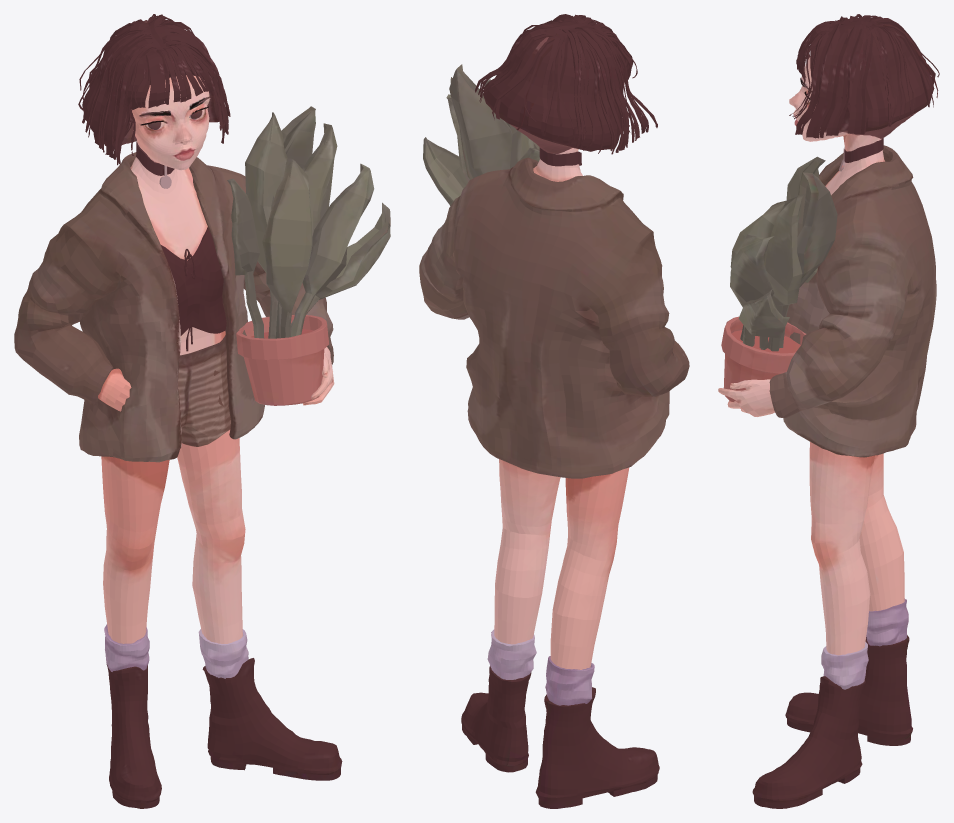
File: matilda-transformed.glb
The picture shows the model from 3 angles, left to right: view 1: azimuth 30°, elevation 25°; view 2: azimuth 150°, elevation 25°; view 3: azimuth 270°, elevation 25°; orthographic projection. The views are drawn at different scales.
Visible parts, largest first — view 1: polySurface1_surfaceShader1_0; view 2: polySurface1_surfaceShader1_0; view 3: polySurface1_surfaceShader1_0.
Part boxes in pixels (x1=…): polySurface1_surfaceShader1_0: x1=14, y1=14, x2=390, y2=808; polySurface1_surfaceShader1_0: x1=419, y1=14, x2=689, y2=808; polySurface1_surfaceShader1_0: x1=718, y1=14, x2=939, y2=808.
Bounding box in the file's own units: 82.63 × 191 × 52.97.
1 material, 1 textured.
